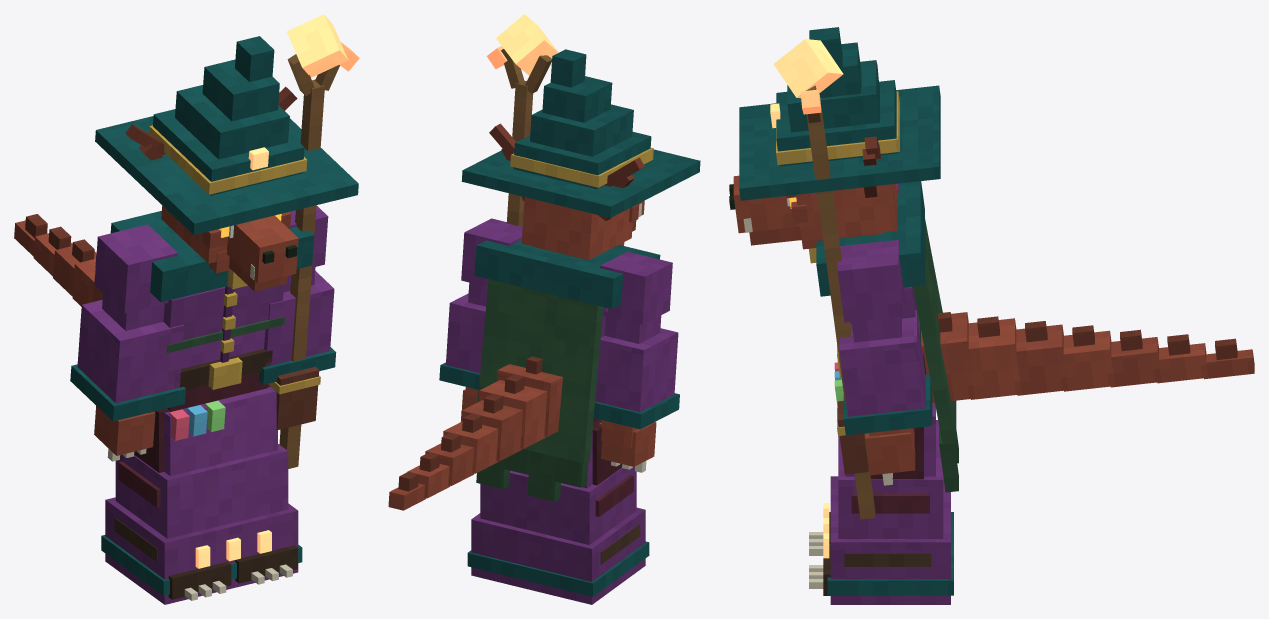
Rendered from lizard_mage.glb.
3 views of the same model, side by side, from view 1: azimuth 30°, elevation 25°; view 2: azimuth 150°, elevation 25°; view 3: azimuth 270°, elevation 25° (orthographic). The views are drawn at different scales.
Parts seen in each view (by area): view 1: Head, Root, Torso, ArmR, HandL, ArmL, LegR, LegL; view 2: Torso, Head, Root, ArmR, ArmL, HandL, LegR; view 3: Torso, Head, ArmL, Root, HandL, LegL.
Boxes of the visible parts, <box> form: Head: <box>95,36,358,291</box>; Root: <box>101,386,302,604</box>; Torso: <box>14,210,320,440</box>; ArmR: <box>70,224,185,461</box>; HandL: <box>279,14,359,468</box>; ArmL: <box>259,206,336,384</box>; LegR: <box>114,408,231,599</box>; LegL: <box>235,384,297,583</box>; Torso: <box>388,240,660,510</box>; Head: <box>461,49,700,259</box>; Root: <box>467,431,649,604</box>; ArmR: <box>593,251,679,472</box>; ArmL: <box>439,218,522,410</box>; HandL: <box>487,14,558,226</box>; LegR: <box>592,419,640,564</box>; Torso: <box>809,181,1254,492</box>; Head: <box>729,27,940,249</box>; ArmL: <box>837,240,932,485</box>; Root: <box>809,403,953,604</box>; HandL: <box>773,39,875,519</box>; LegL: <box>823,427,931,595</box>.
Size of the model in its own units: 0.8774 by 2.11 by 1.75.
38 materials, 38 textured.
